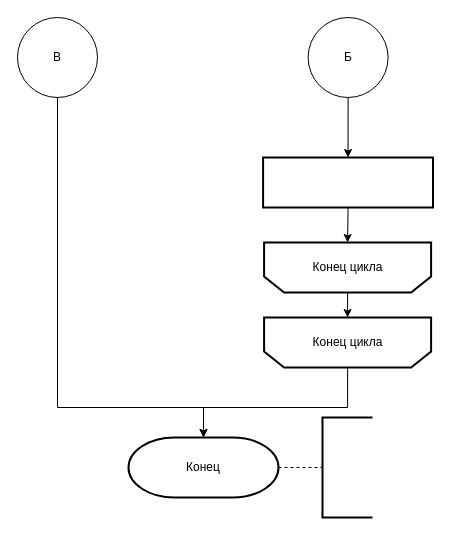
Image size: 451x536. Some labels were removed from this diagram. The centre of each missing label's shape, as x and y in pixels:
result[i][j] = result[i][j] + m1[i][m-1]*m2[m-1][j]: pixel 348 182
Возврат result: pixel 347 467
